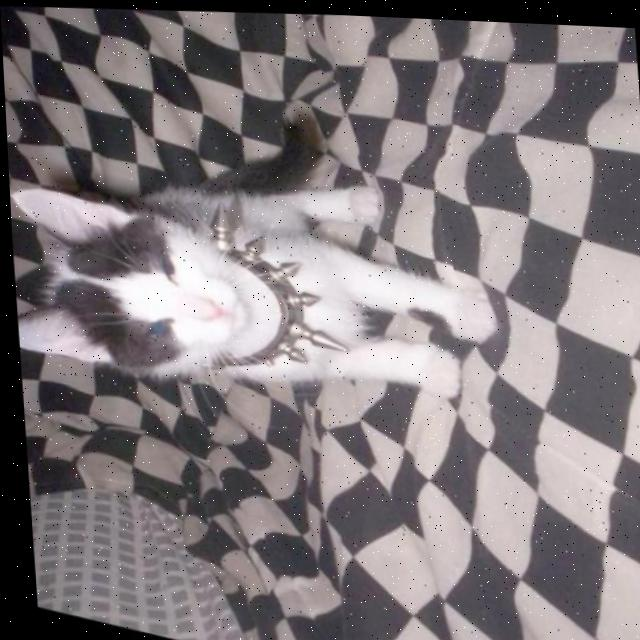Cats: (4, 93, 516, 475)
